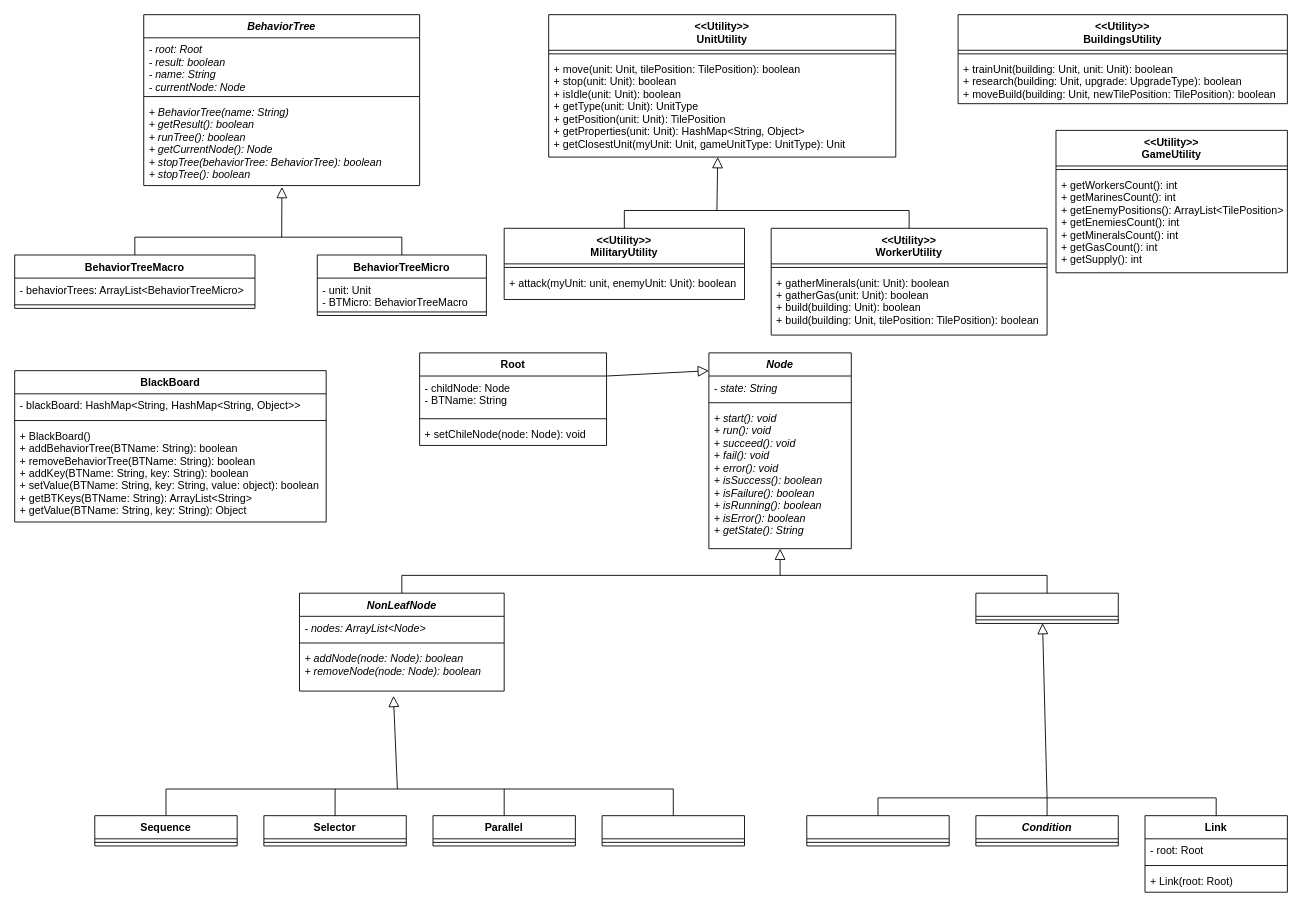
Image size: 1302x907. Some labels were removed from this diagram. The shapes that lost their labels are listed below. From the top down, each one's centre as x and y in pixels, then its label:
[1046,607]: LeafNode
[672,830]: Decorator
[877,830]: Action
